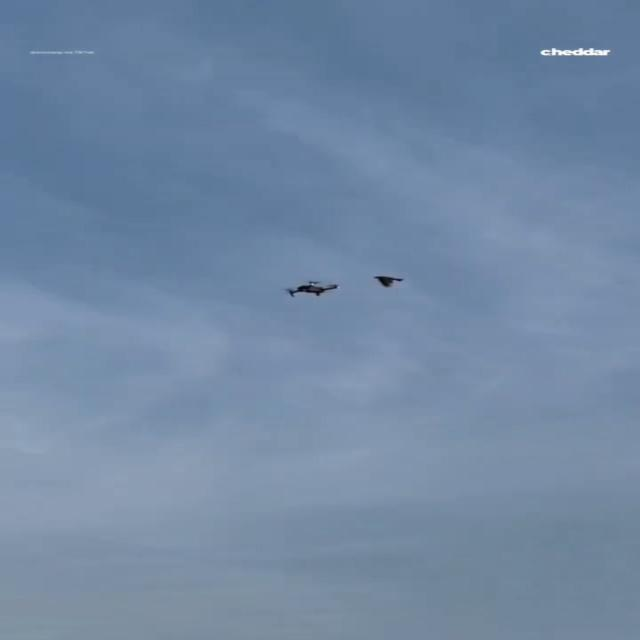bird: (372, 275, 403, 287)
drone: (284, 280, 338, 297)
